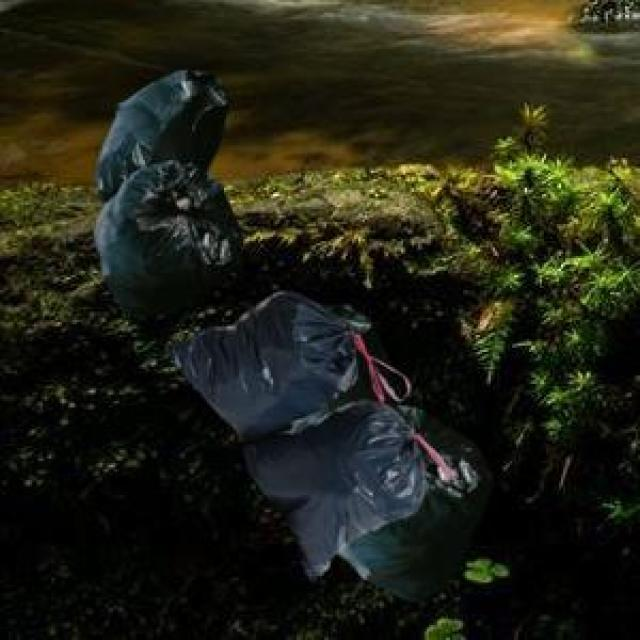waste: (174, 291, 490, 598), (95, 70, 241, 319)
